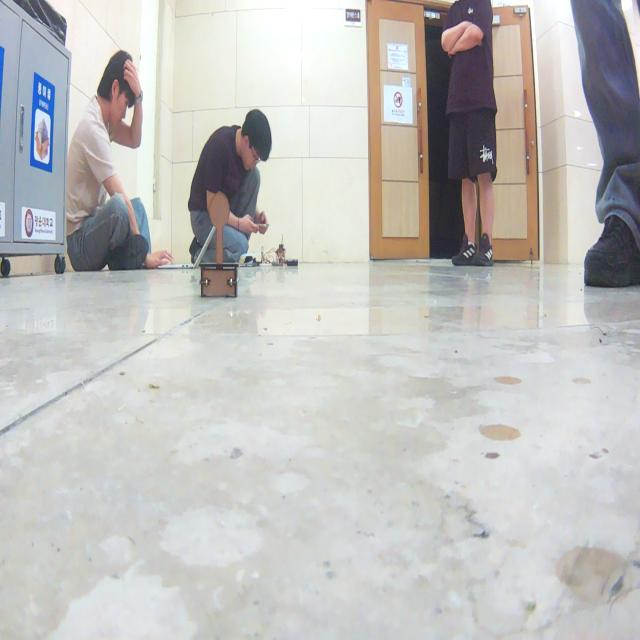target: (199, 192, 238, 299)
